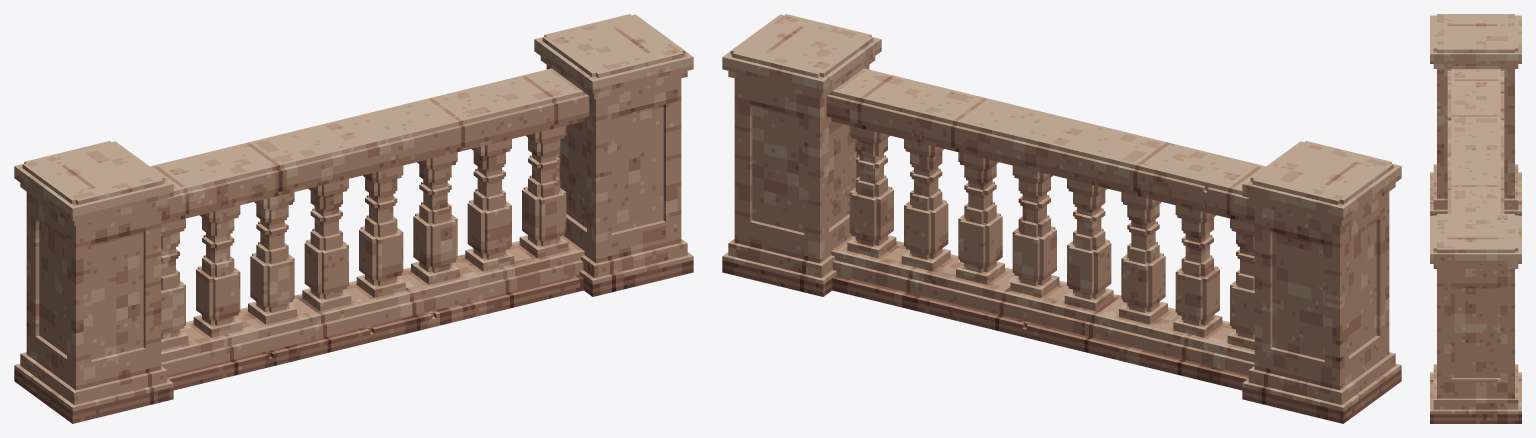
Rendered from balustrade.glb.
The picture shows the model from 3 angles, left to right: view 1: azimuth 30°, elevation 25°; view 2: azimuth 150°, elevation 25°; view 3: azimuth 270°, elevation 25°; orthographic projection. The views are drawn at different scales.
Visible parts, largest first — view 1: Balustrade; view 2: Balustrade; view 3: Balustrade.
Part boxes in pixels (<box>): Balustrade: <box>14,14,693,423</box>; Balustrade: <box>722,14,1401,423</box>; Balustrade: <box>1430,14,1521,423</box>.
Bounding box in the file's own units: 3.2 × 1.08 × 0.52.
